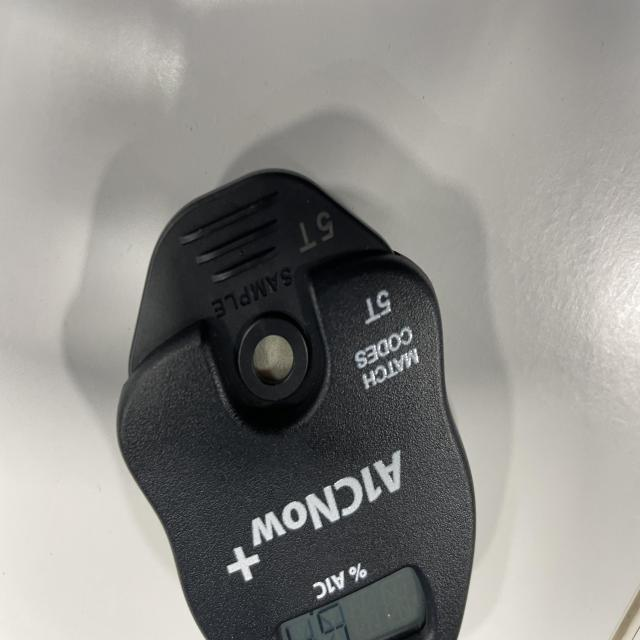hba1c: (115, 171, 477, 640)
